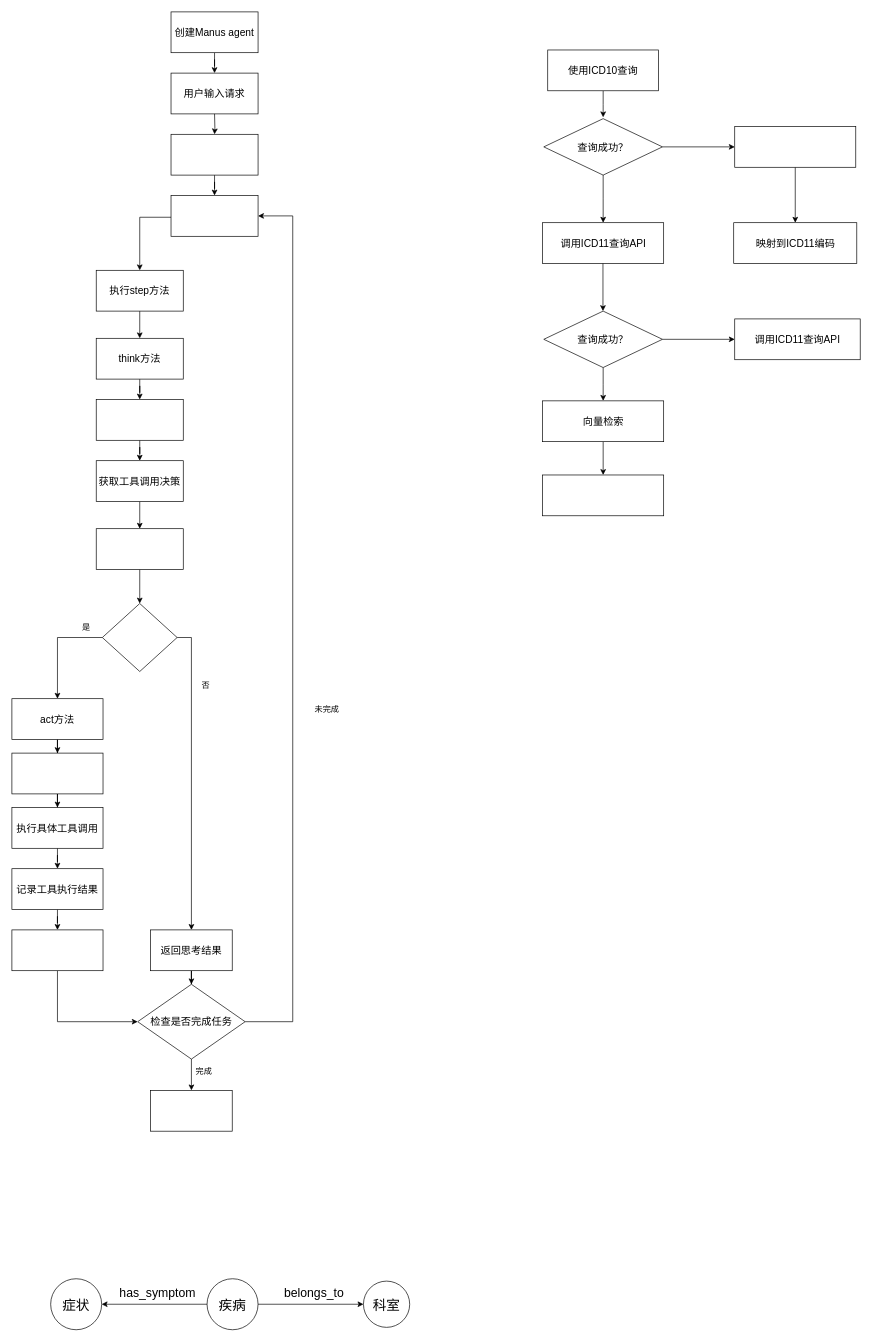
Image size: 872x1342. Some labels were removed from this diagram. Here are the shapes that lost their labels. From the top down, the box of each, then its label:
(170, 134, 258, 175): 调用agent.run()
(734, 126, 856, 167): 查询ICD10到11的映射表
(170, 195, 258, 236): 进入执行循环
(96, 399, 183, 440): 向LLM发送请求
(542, 474, 664, 516): LLM / Agent进行校验
(96, 528, 183, 570): 记录LLM响应
(102, 603, 177, 672): 有工具调用？
(11, 752, 103, 794): 调用工具
(11, 929, 103, 971): 返回执行结果
(150, 1090, 232, 1131): 执行结束
